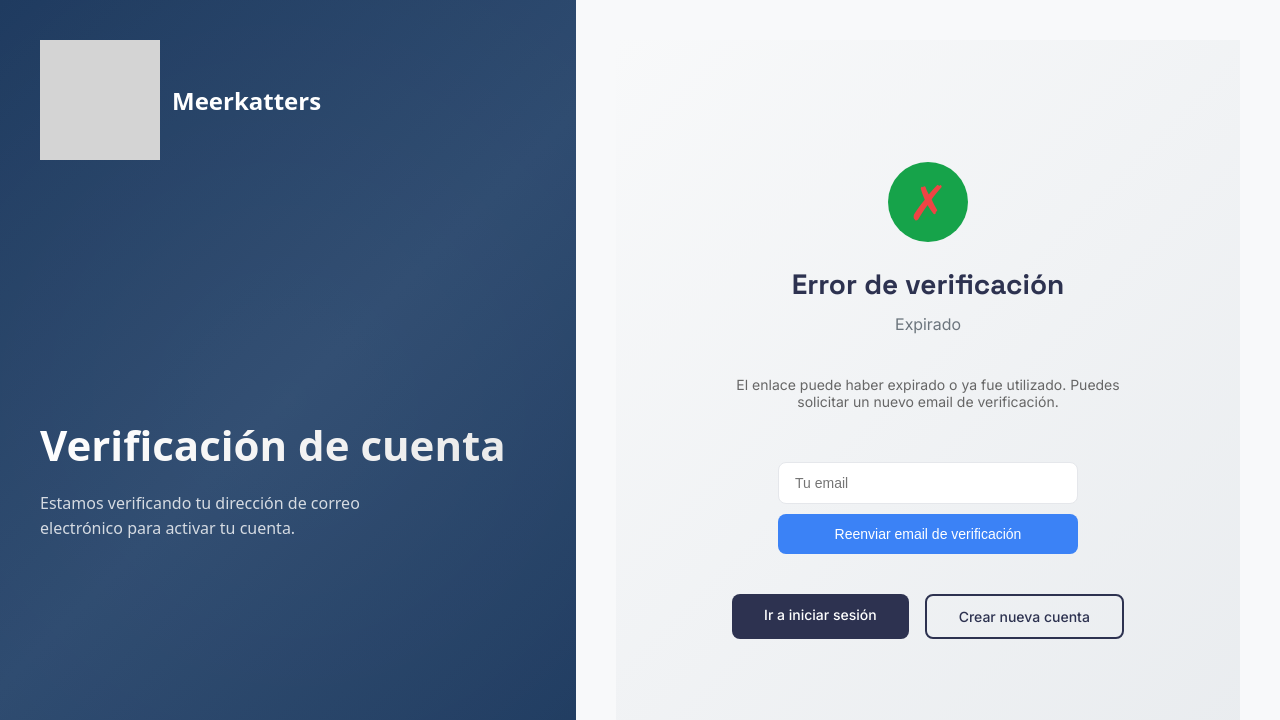
Test: VerifyEmail › resend verification failure
This screenshot has width=1280, height=720.
Type "user@test.com" into the field with placeholder "Tu email" at [928, 482], box [778,462,1078,504]
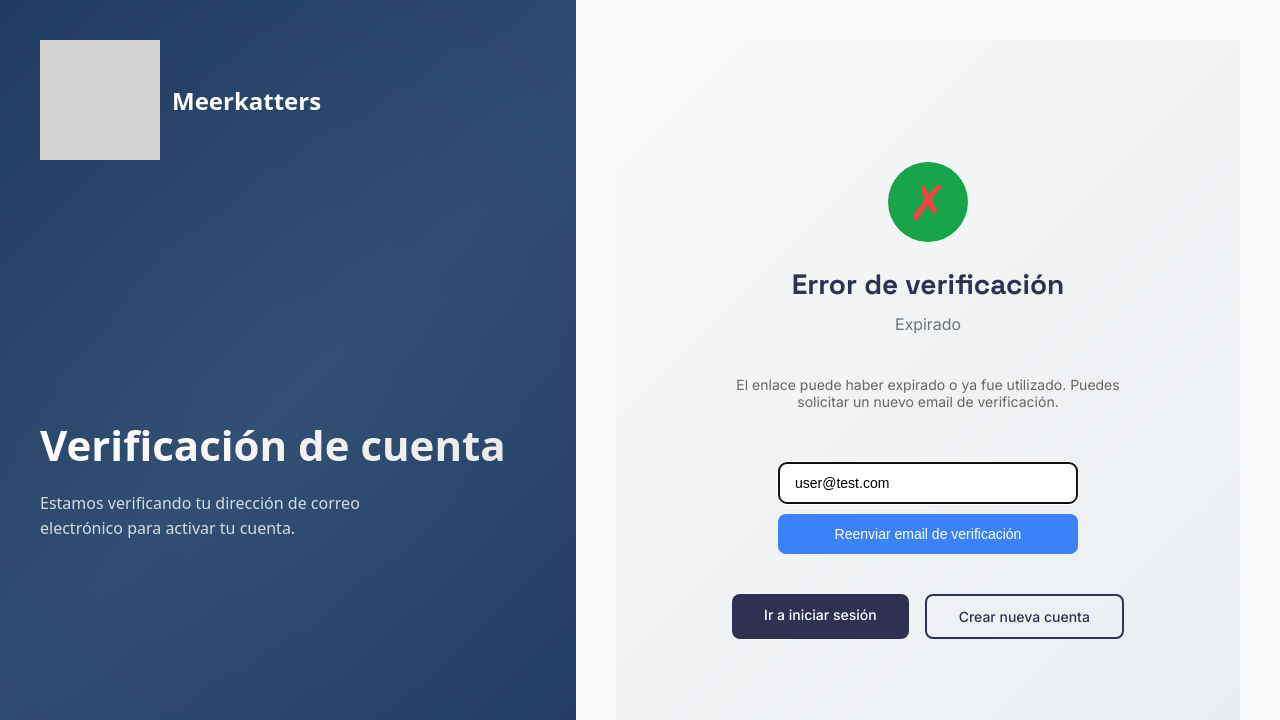
Click the button "Reenviar email de verificación" at [928, 534], box [778,514,1078,554]
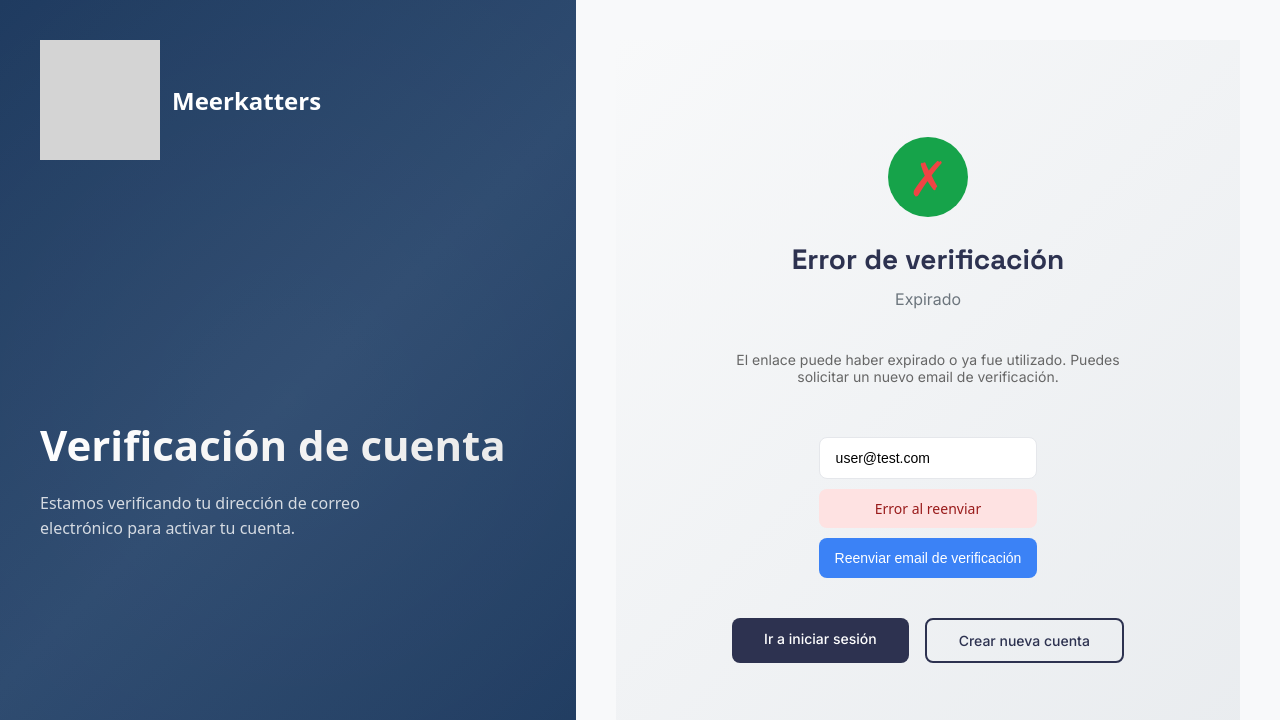
Now the text "Error al reenviar" is shown, box [819,489,1037,528]
